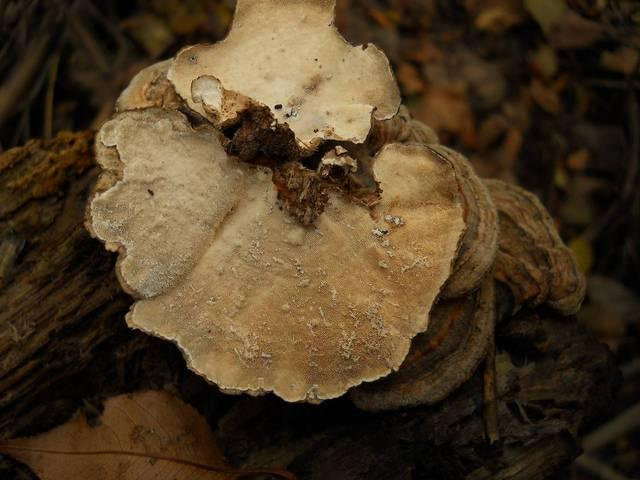Non-edible Mushroom: (81, 0, 586, 414)
